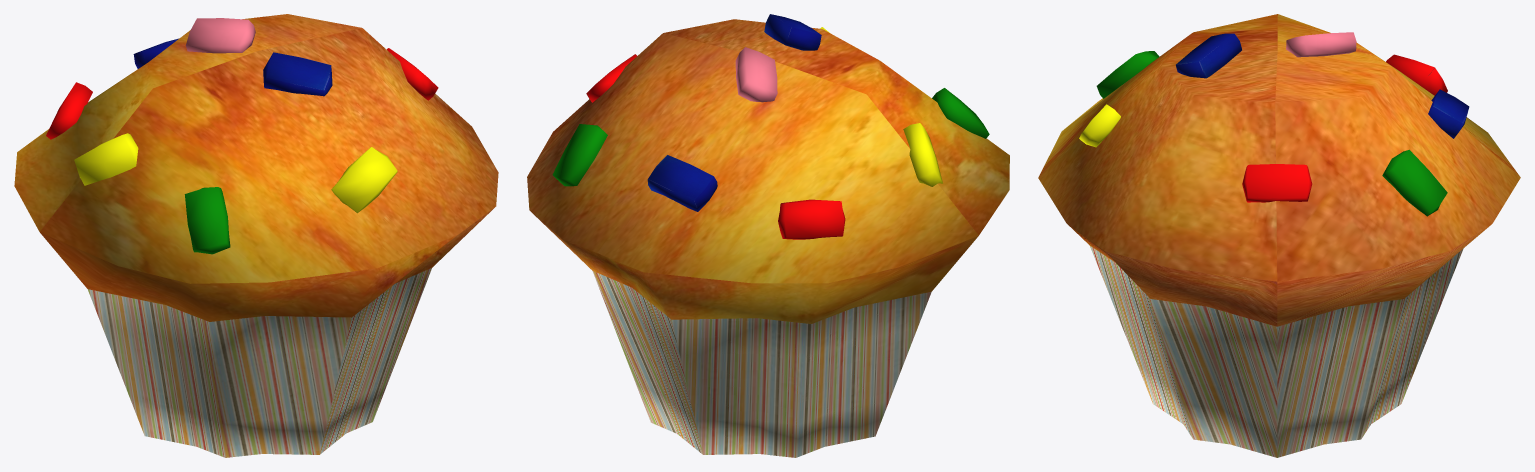
Rendered from muffin.fbx.
3 renders of one model, left to right at view 1: azimuth 30°, elevation 25°; view 2: azimuth 150°, elevation 25°; view 3: azimuth 270°, elevation 25°, orthographic.
Parts seen in each view (by area): view 1: Cube_001; view 2: Cube_001; view 3: Cube_001.
Part boxes in pixels (x1,y1,x2,y2): Cube_001: [14, 14, 498, 457]; Cube_001: [527, 14, 1009, 457]; Cube_001: [1038, 14, 1520, 457].
Bounding box in the file's own units: 77.72 × 64.75 × 76.2.
7 materials, 7 textured.
